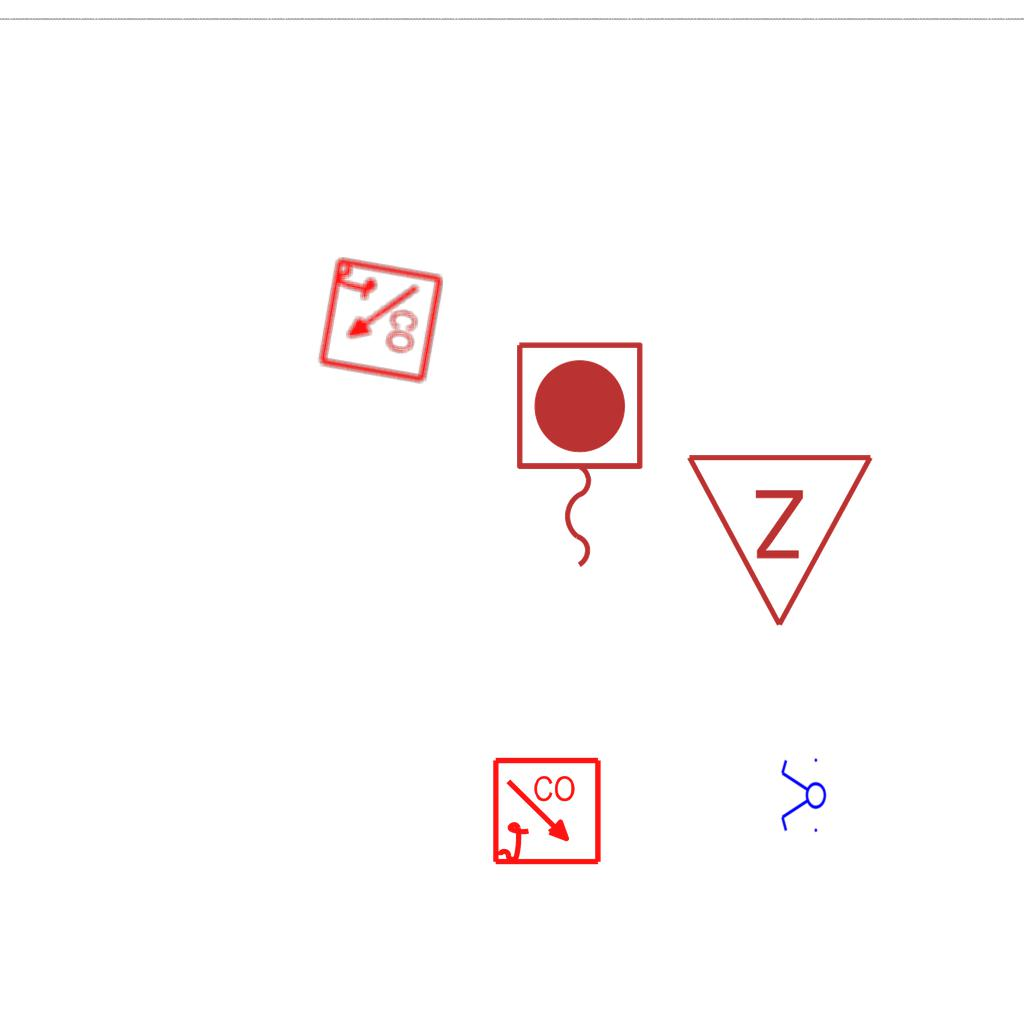ROA_Rauchmelder_optisch_mit_Signalgeber_(Sockelsirene): (314, 255, 445, 386), (491, 756, 604, 869)
Serienschalter: (779, 754, 827, 838)
Zimmersignalleuchte: (684, 440, 880, 640)
Zugtaster: (506, 334, 650, 578)
